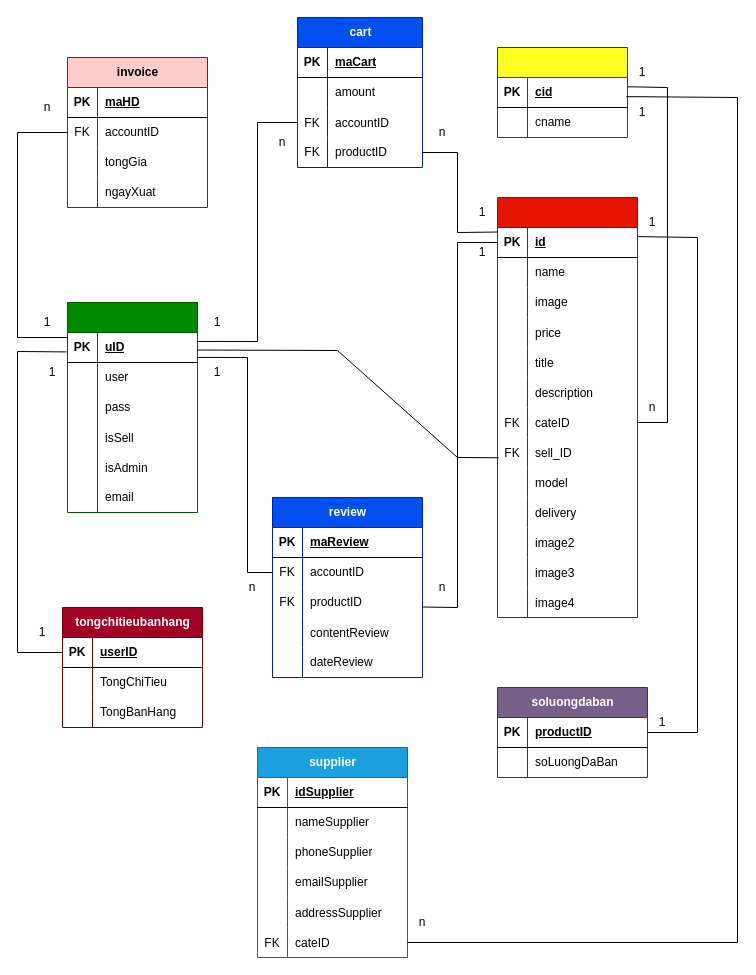
The diagram is 756 pixels wide and 975 high, and some of its shapes have lost their labels. The shapes that lost their labels are listed below. From the top down, each one's box as (x1, y1, x2, y2) in pixels, then its label:
(496, 46, 628, 138): category
(66, 302, 198, 512): account
(496, 196, 638, 618): product
